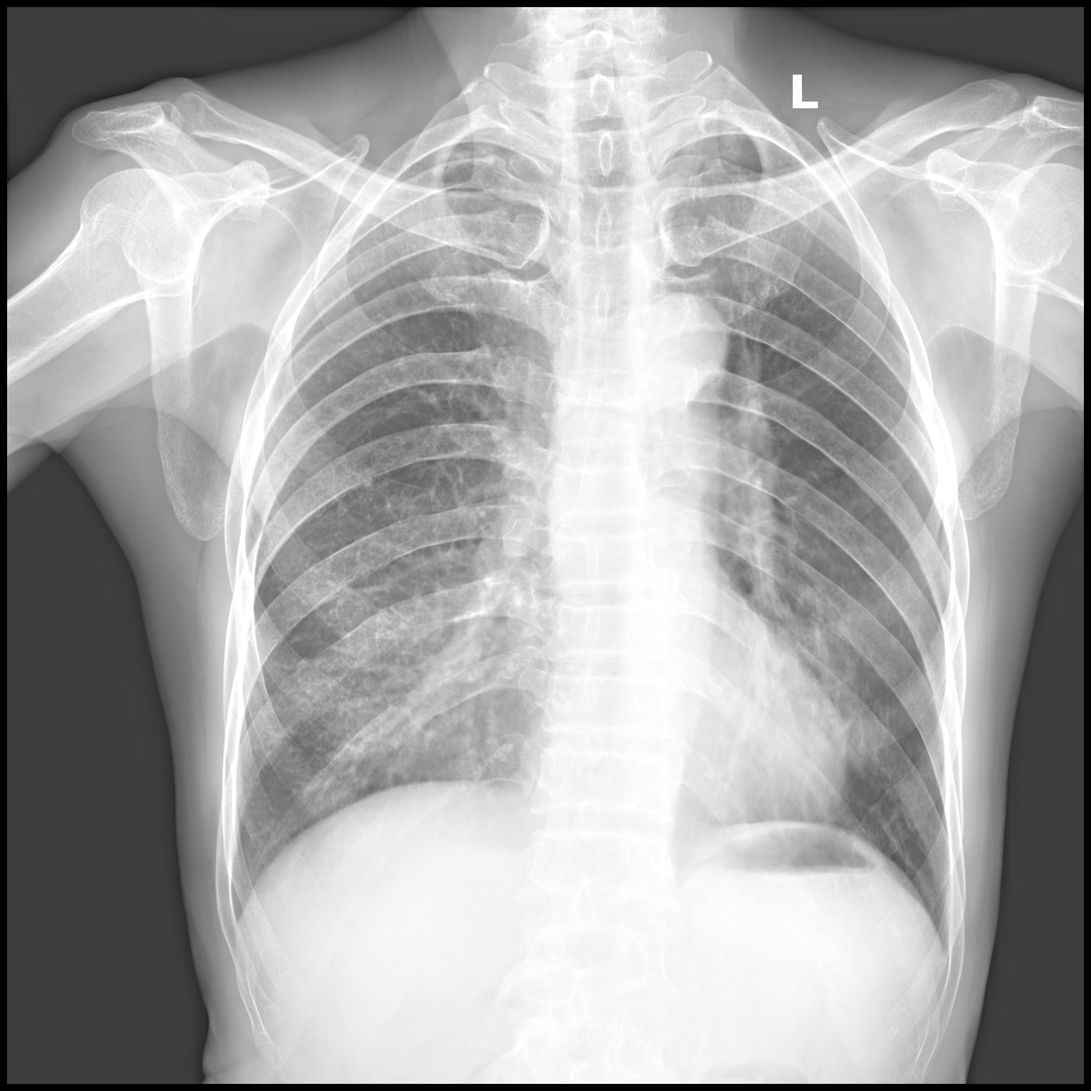Pulmonary fibrosis: (449, 144, 487, 171)
